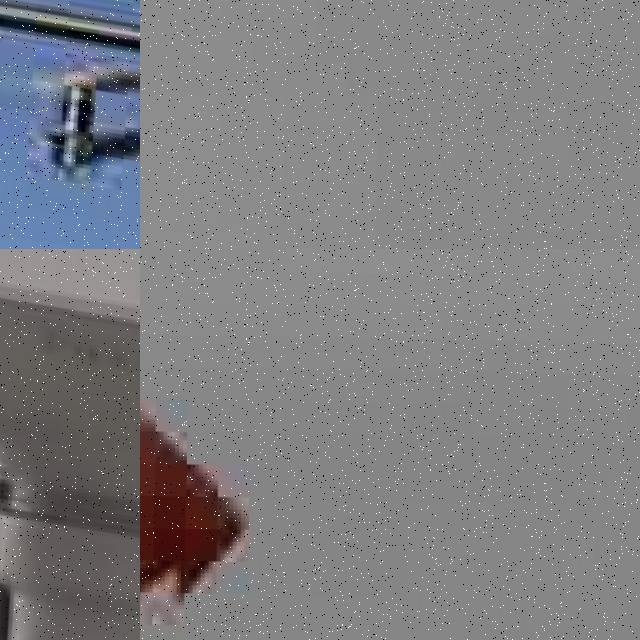drone: (0, 249, 140, 640), (0, 0, 140, 249)
